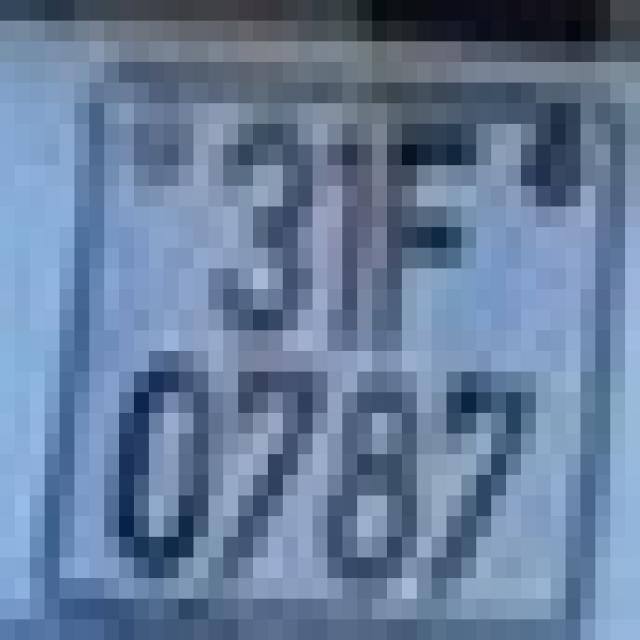0: (119, 351, 208, 578)
1: (312, 103, 372, 351)
3: (208, 104, 312, 330)
7: (432, 372, 536, 598), (224, 351, 312, 578)
8: (327, 372, 417, 578)
F: (372, 124, 476, 351)
